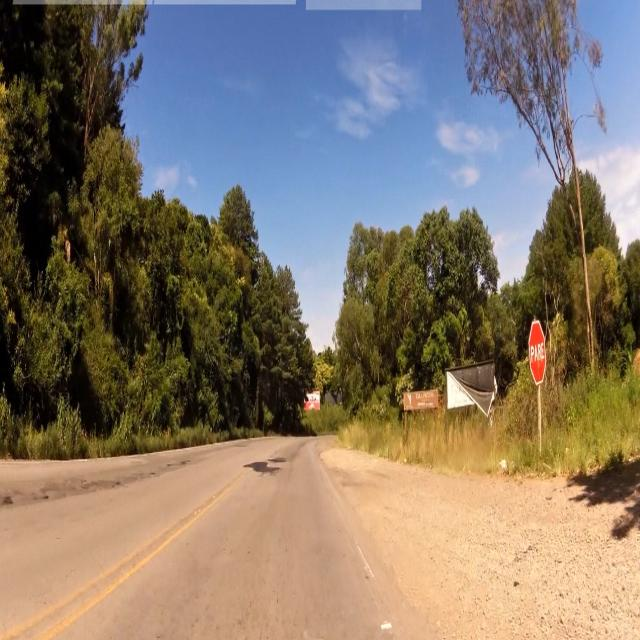R-1: (528, 325, 552, 384)
